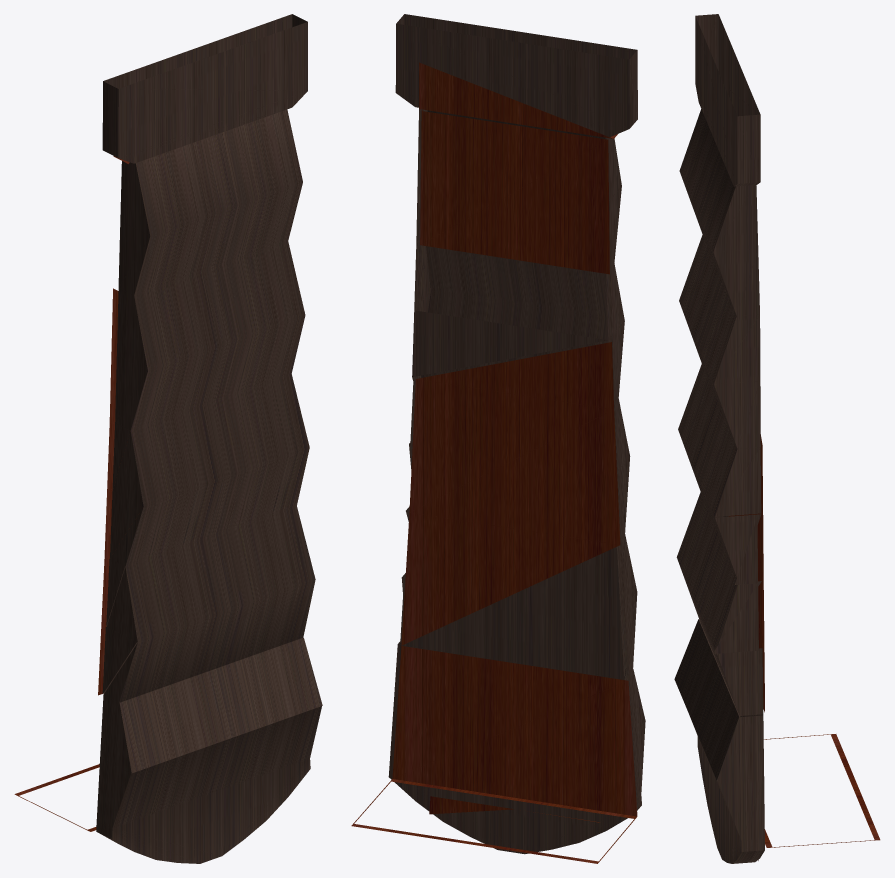
The picture shows the model from 3 angles, left to right: view 1: azimuth 30°, elevation 25°; view 2: azimuth 150°, elevation 25°; view 3: azimuth 270°, elevation 25°; orthographic projection. The views are drawn at different scales.
Visible parts, largest first — view 1: 相, 对象042, Archmodels67_11; view 2: Archmodels67_11, 相, 对象042; view 3: 相, 对象044, Archmodels67_11, 对象043.
Boxes of the visible parts, <box> form: 相: <box>96,14,322,863</box>; 对象042: <box>102,423,143,693</box>; Archmodels67_11: <box>14,156,129,831</box>; Archmodels67_11: <box>351,62,637,863</box>; 相: <box>388,14,645,854</box>; 对象042: <box>614,398,636,677</box>; 相: <box>674,14,764,863</box>; 对象044: <box>712,448,761,653</box>; Archmodels67_11: <box>728,434,880,860</box>; 对象043: <box>740,649,763,715</box>.
Bounding box in the file's own units: 61.67 × 191 × 45.37.
5 materials, 5 textured.
